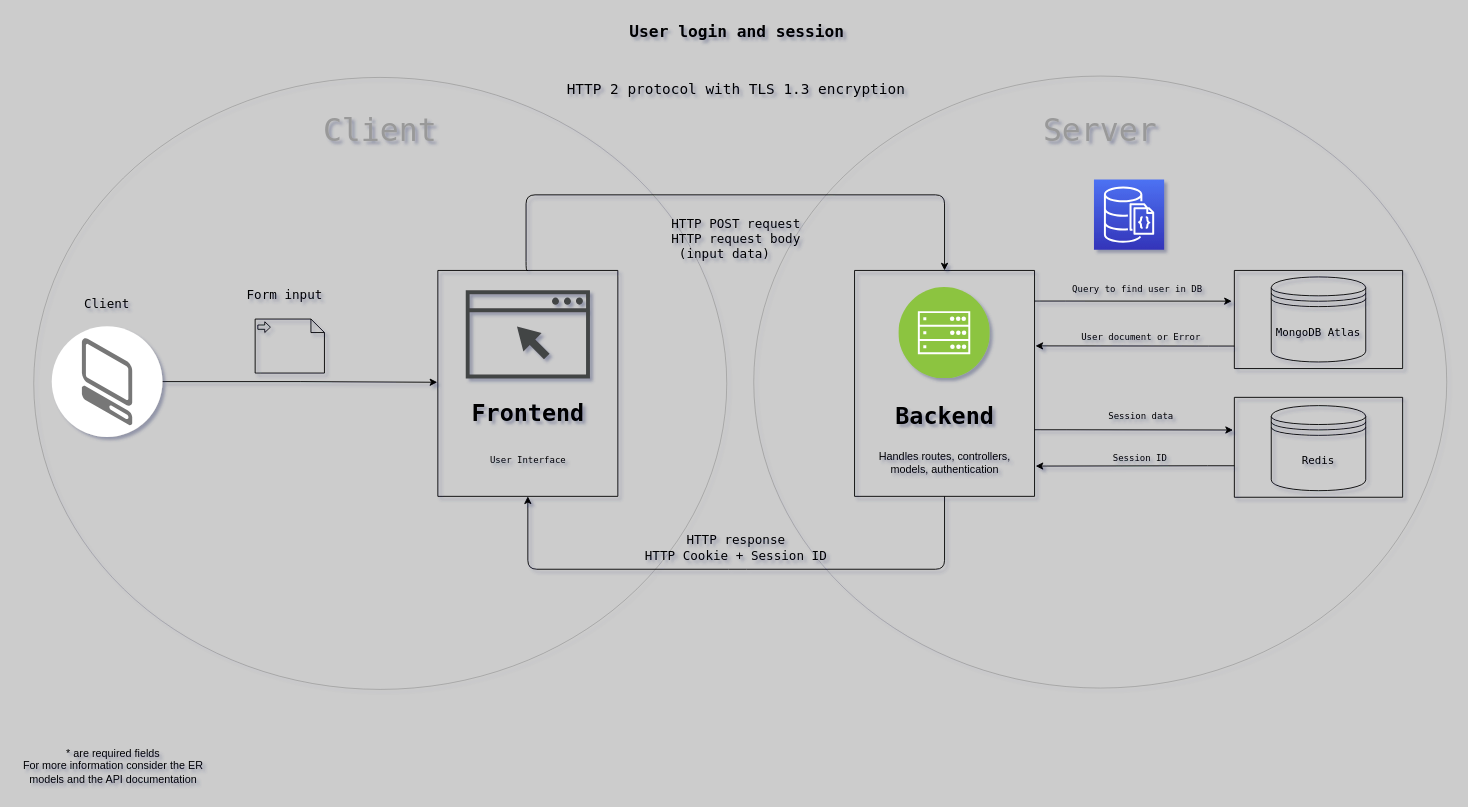
This 1468x807 diagram has some shape labels left out. The centre of each missing label's shape, as x and y in pixels:
"- email * - password *" belongs at point (289, 345).
"findOne({email])" belongs at point (1128, 214).
